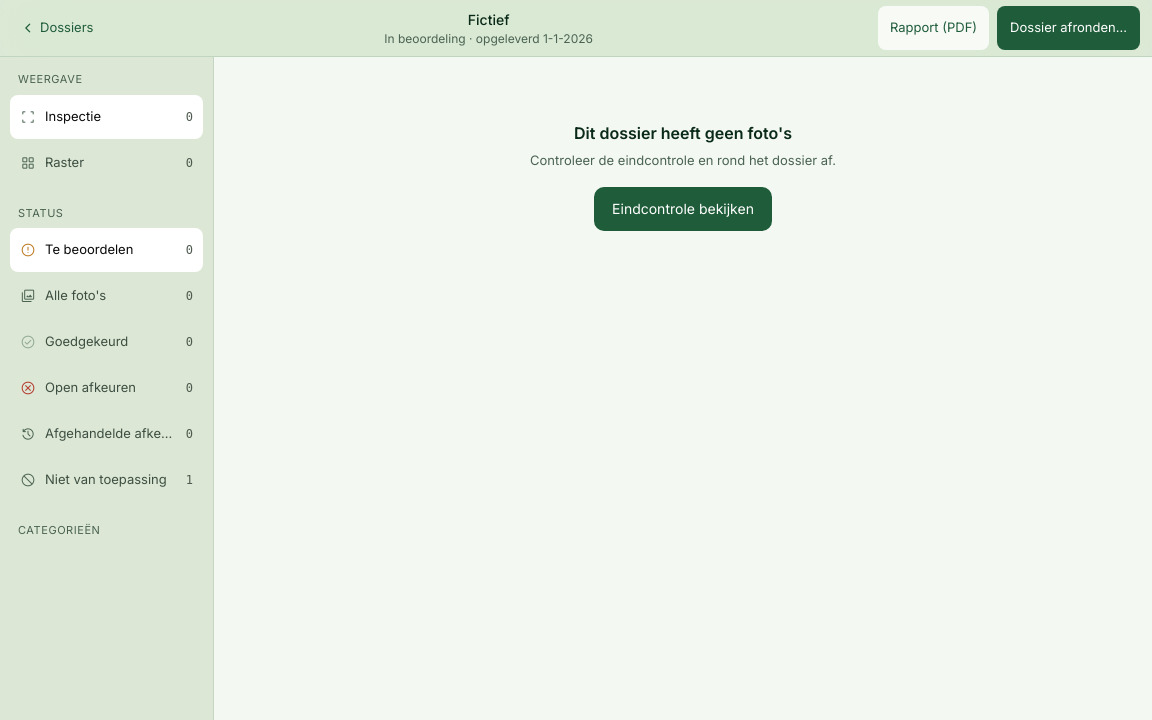
Test: BeoordeelDossier › valid all-N.v.t. dossier without photos can be finalized; server rejection is no success
Later steps or results of the test are not shown.
Expected: the text "Dit dossier heeft geen foto's" is shown, [574,123,792,143]
Click the button "Eindcontrole bekijken". click: (683, 208)
box: [594,186,772,230]
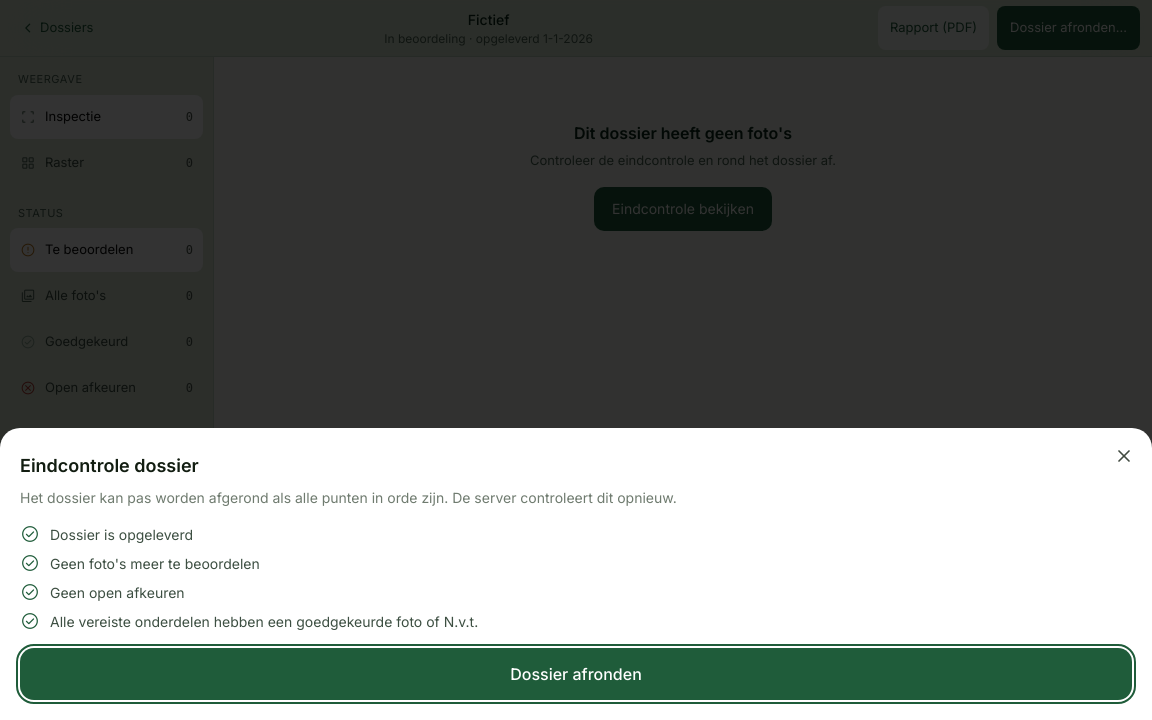
Expected: the button "Dossier afronden" is enabled, [20,648,1132,700]
